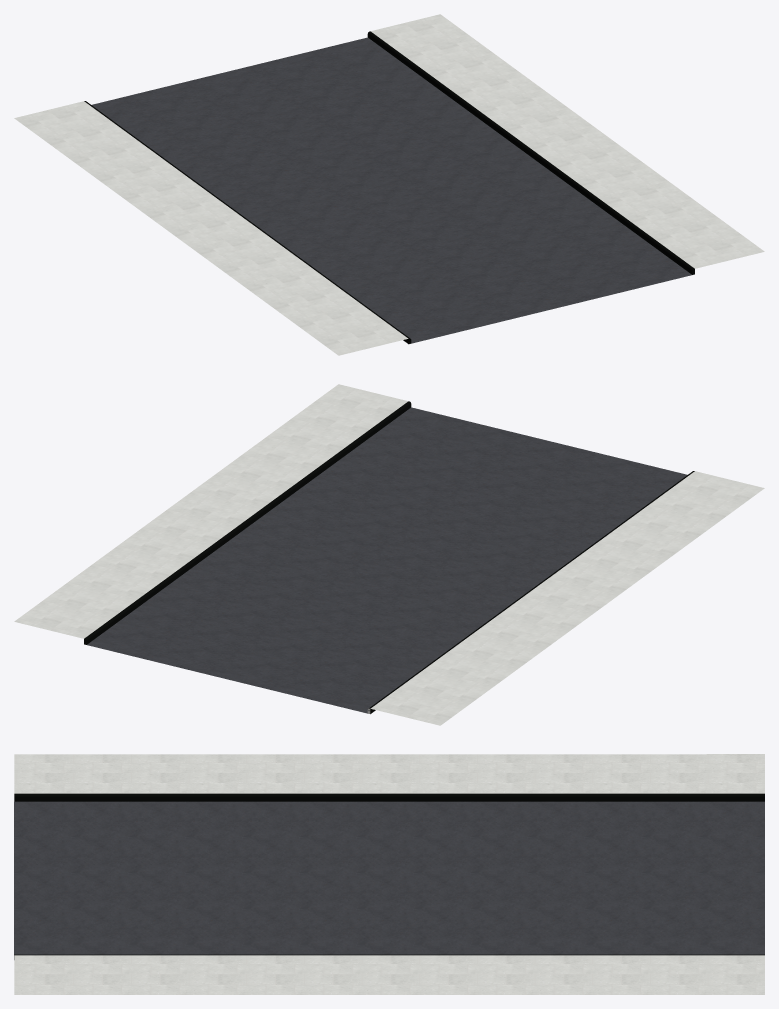
Rendered from calle 2 carril y 2 estacionamiento.fbx.
3 views of the same model, one above another, from view 1: azimuth 30°, elevation 25°; view 2: azimuth 150°, elevation 25°; view 3: azimuth 270°, elevation 25° (orthographic). The views are drawn at different scales.
Visible parts, largest first — view 1: Callle 1 carril con un lugar para estacionar.003; view 2: Callle 1 carril con un lugar para estacionar.003; view 3: Callle 1 carril con un lugar para estacionar.003.
Boxes of the visible parts, box(x1,y1,x2,y2) form: Callle 1 carril con un lugar para estacionar.003: box(14, 14, 764, 355); Callle 1 carril con un lugar para estacionar.003: box(14, 384, 764, 725); Callle 1 carril con un lugar para estacionar.003: box(14, 754, 764, 994).
Bounding box in the file's own units: 1517 × 18.89 × 2000.
Materials: 3 (3 with a texture image).
